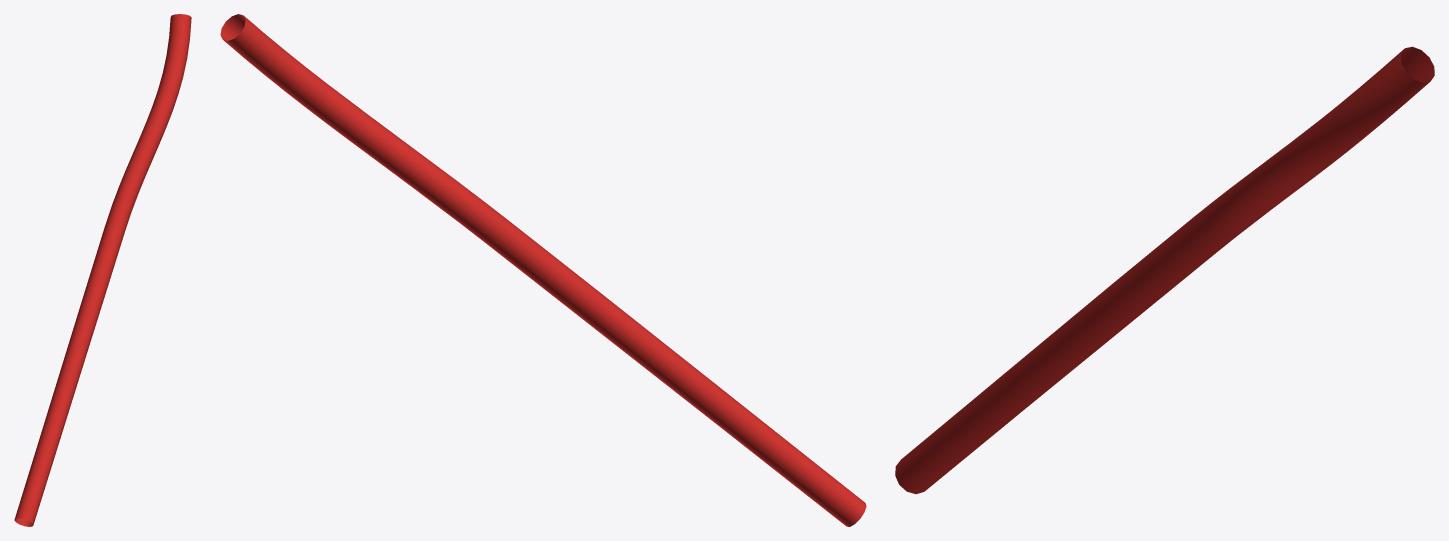
The model's file is circulatorio-ulnar-recurrent-artery-r.glb.
3 renders of one model, left to right at view 1: azimuth 30°, elevation 25°; view 2: azimuth 150°, elevation 25°; view 3: azimuth 270°, elevation 25°, orthographic. The views are drawn at different scales.
Parts seen in each view (by area): view 1: (Ulnar recurrent artery).r; view 2: (Ulnar recurrent artery).r; view 3: (Ulnar recurrent artery).r.
Part boxes in pixels (box(x1,y1,x2,y2)): (Ulnar recurrent artery).r: box(14, 14, 191, 526); (Ulnar recurrent artery).r: box(220, 14, 866, 526); (Ulnar recurrent artery).r: box(895, 46, 1434, 494).
Size of the model in its own units: 0.0222 by 0.0253 by 0.0173.
